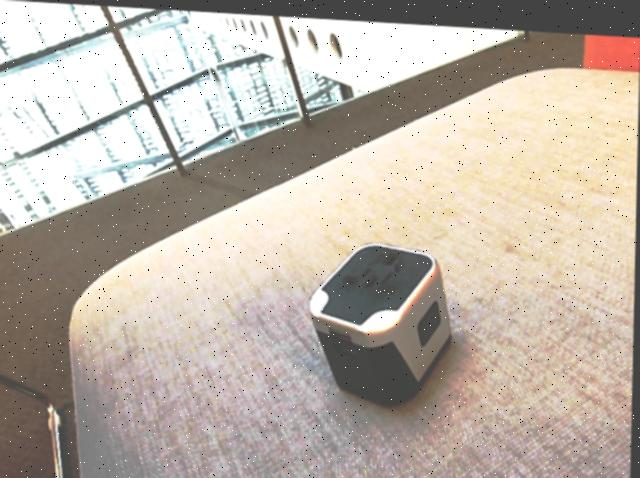adapter: (307, 234, 454, 404)
